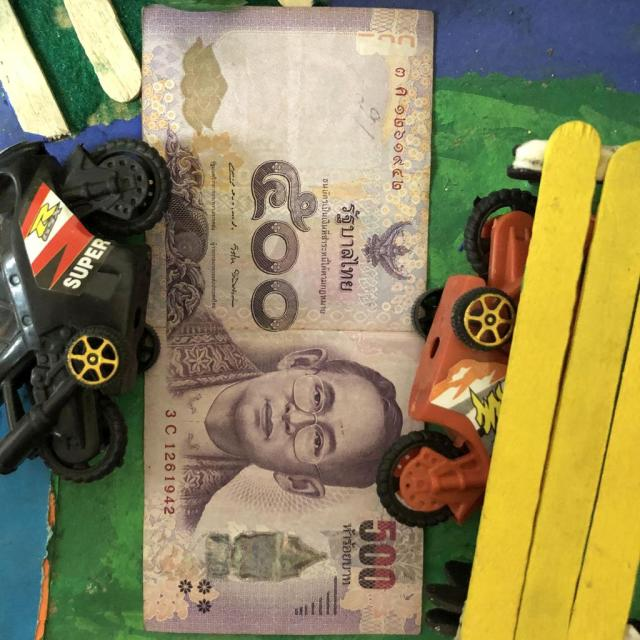THAI500: (142, 5, 433, 634)
